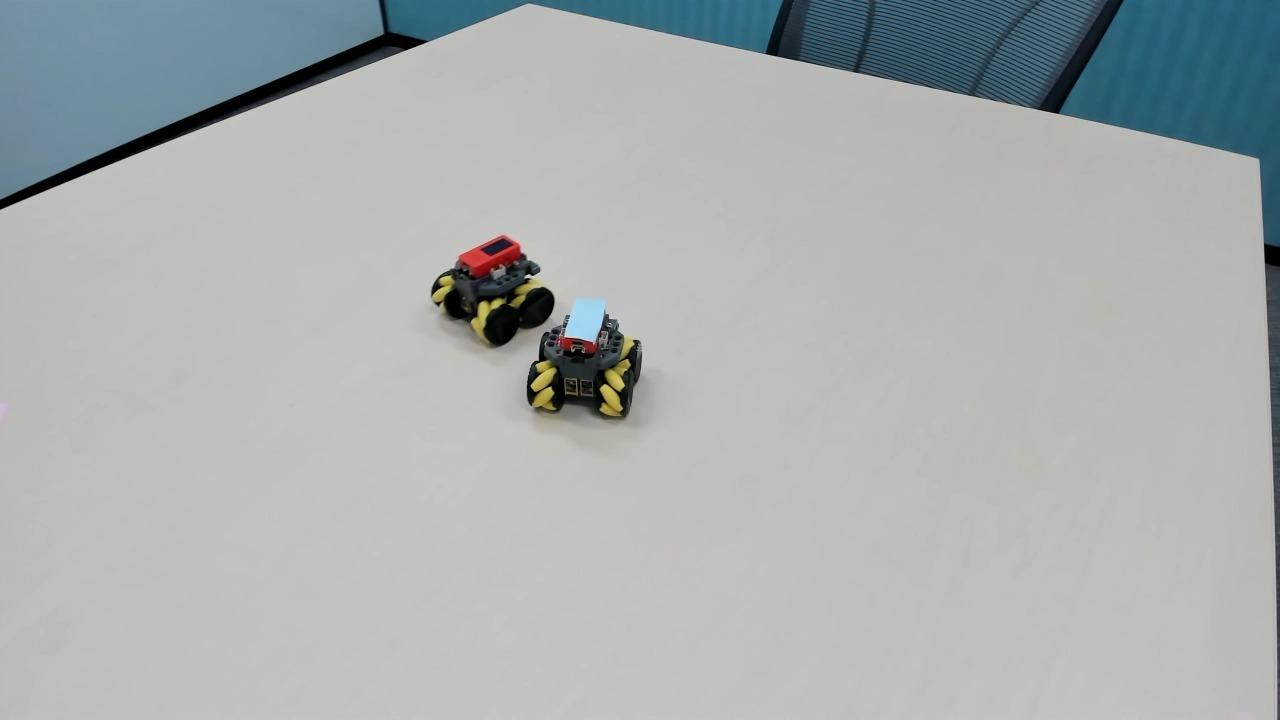B-Robot: (522, 295, 642, 436)
R-Robot: (418, 225, 554, 341)
